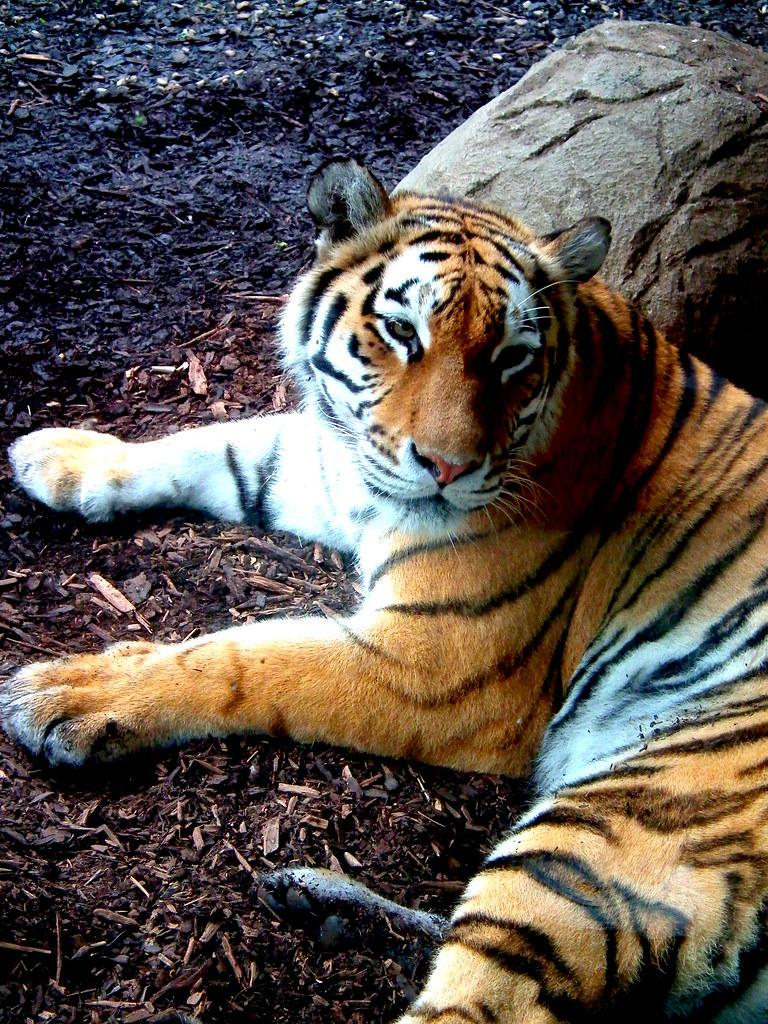tiger: (2, 157, 767, 1023)
